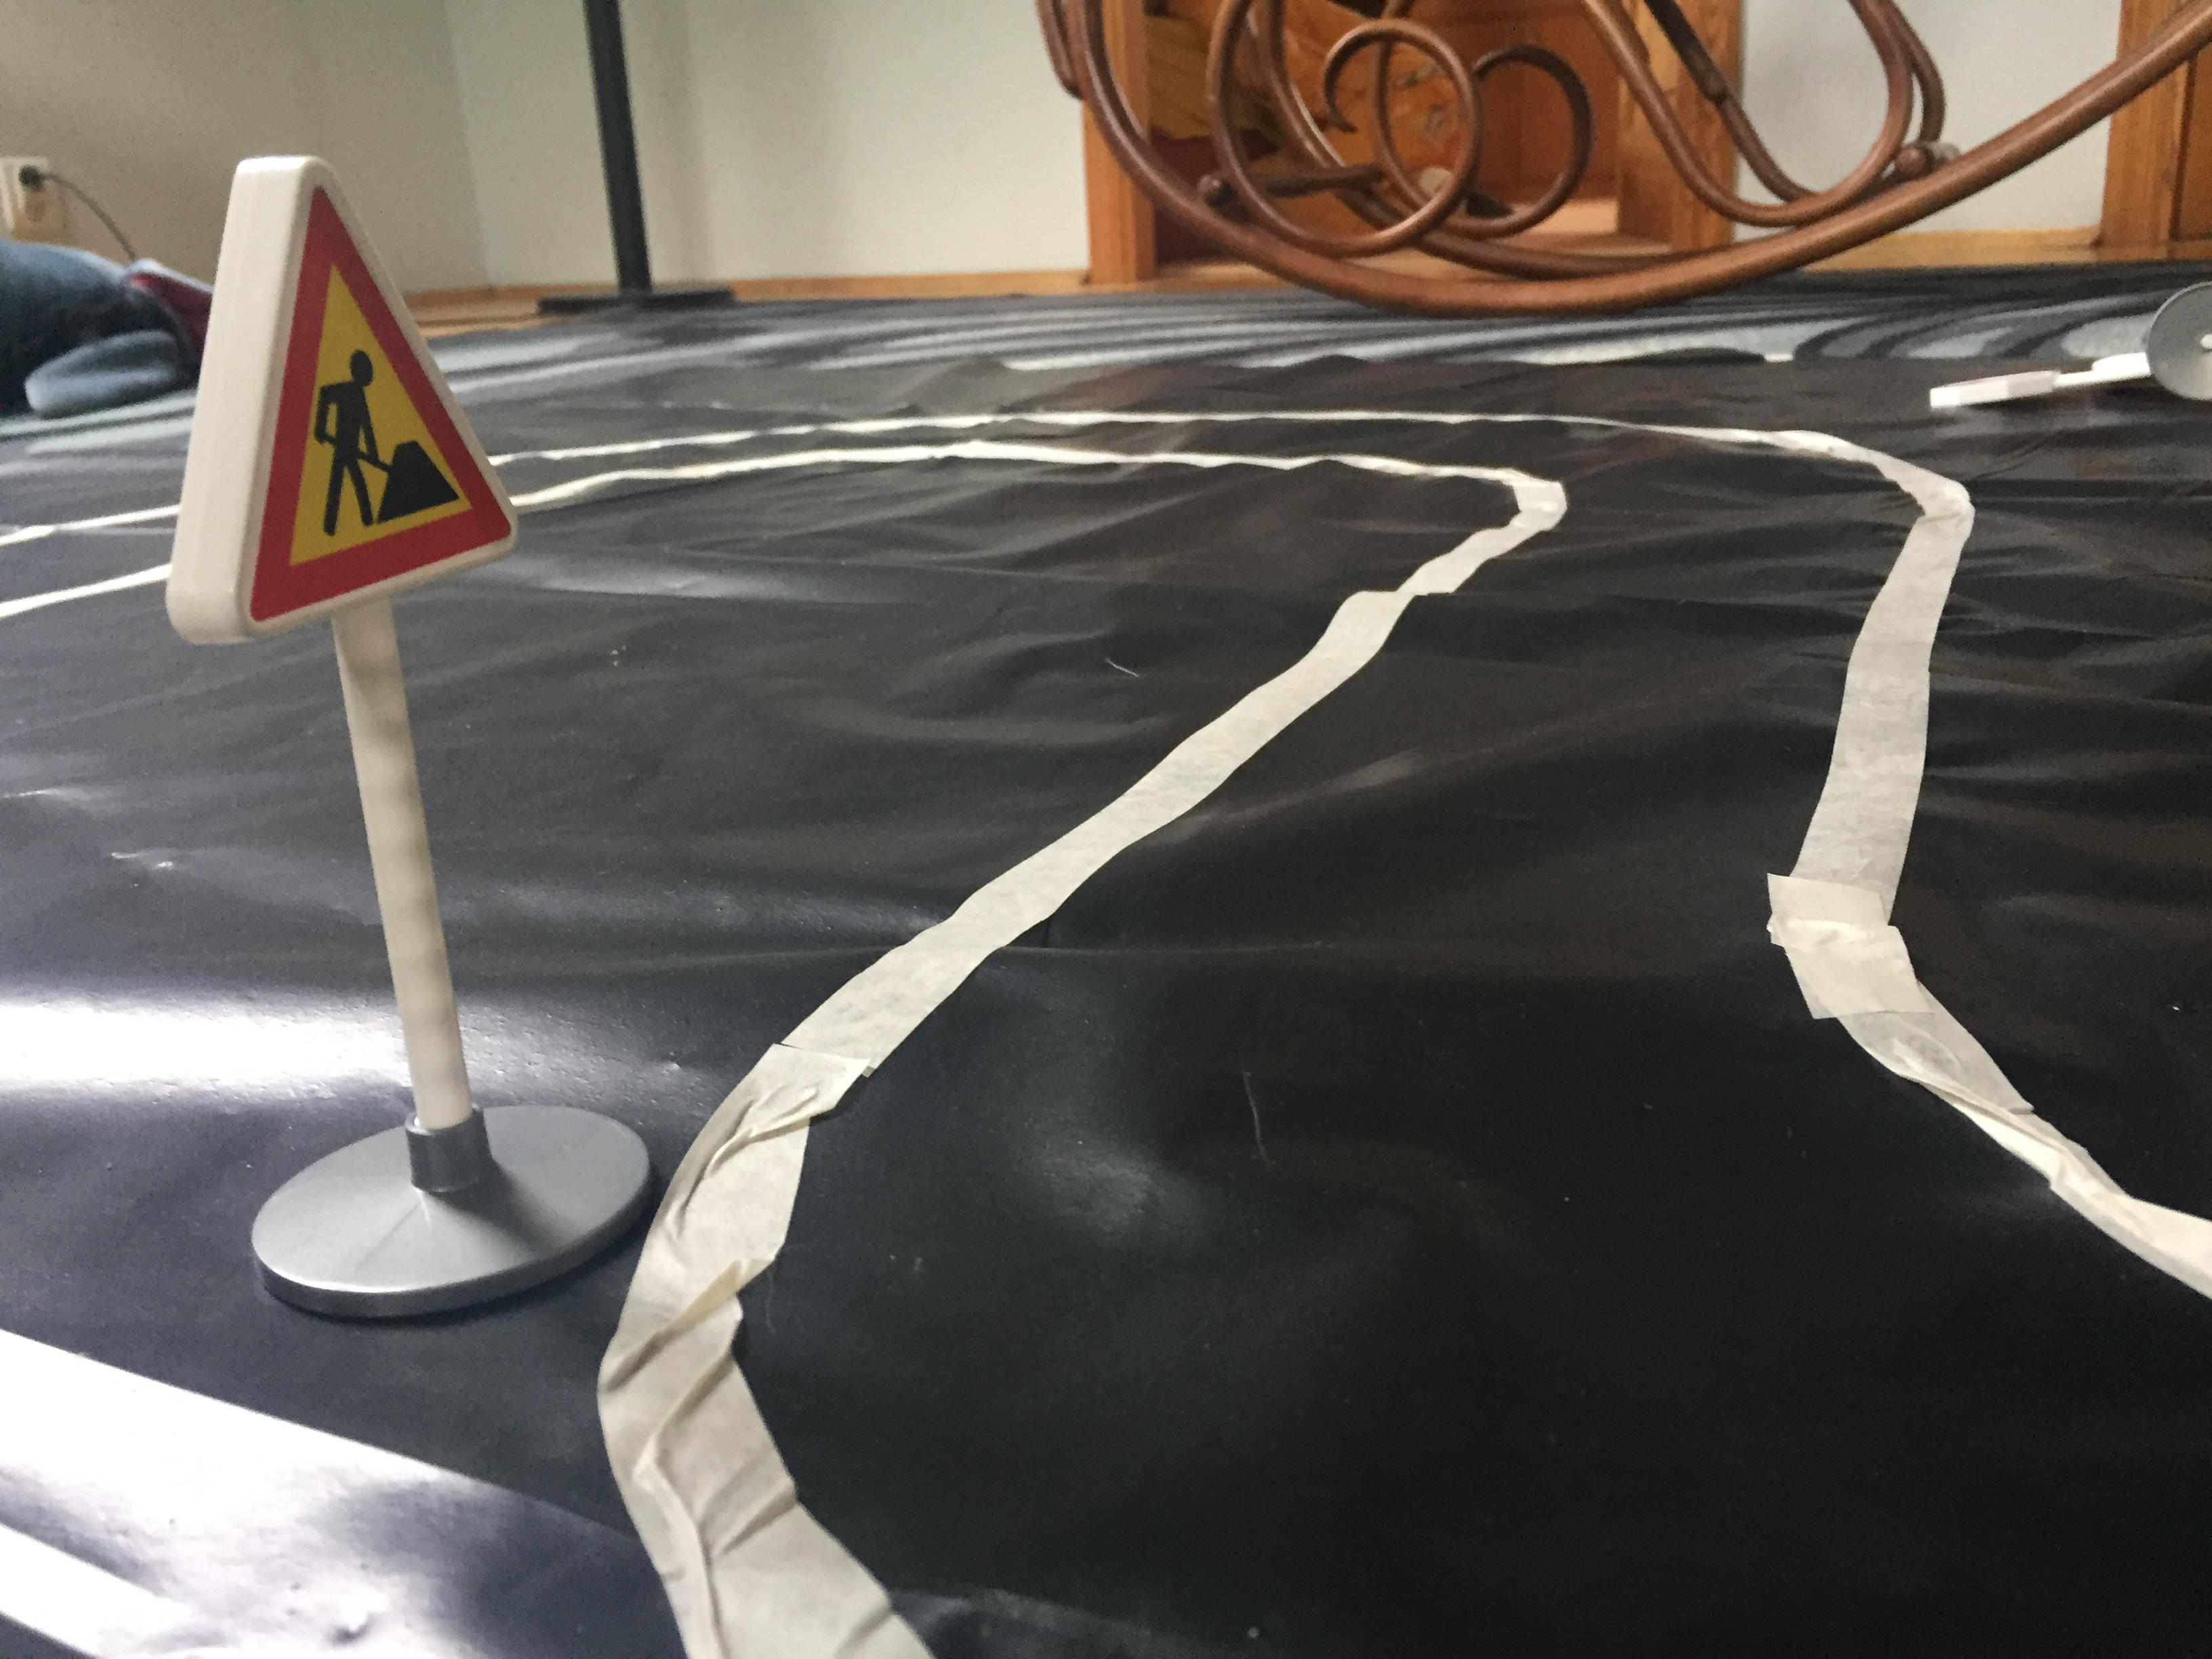work: (155, 143, 535, 659)
